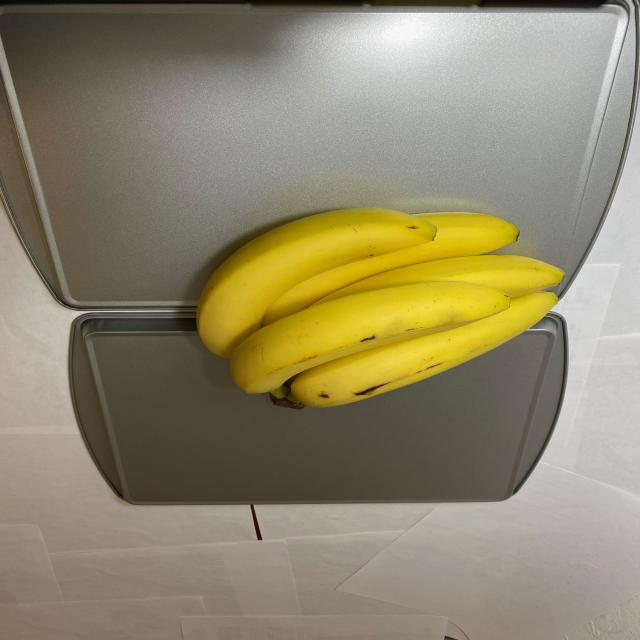banana: (194, 198, 568, 409)
